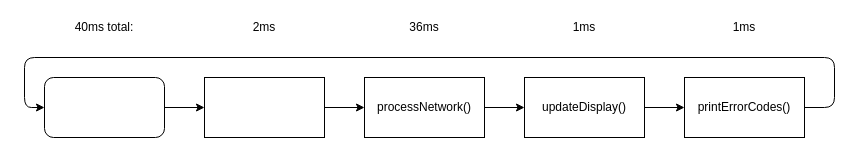
This 860x155 diagram has some shape labels left out. Here are the shapes that lost their labels. From the top down, the centre of each, then its label:
the point at 104,107: loop()
the point at 264,107: processInputMethod()
